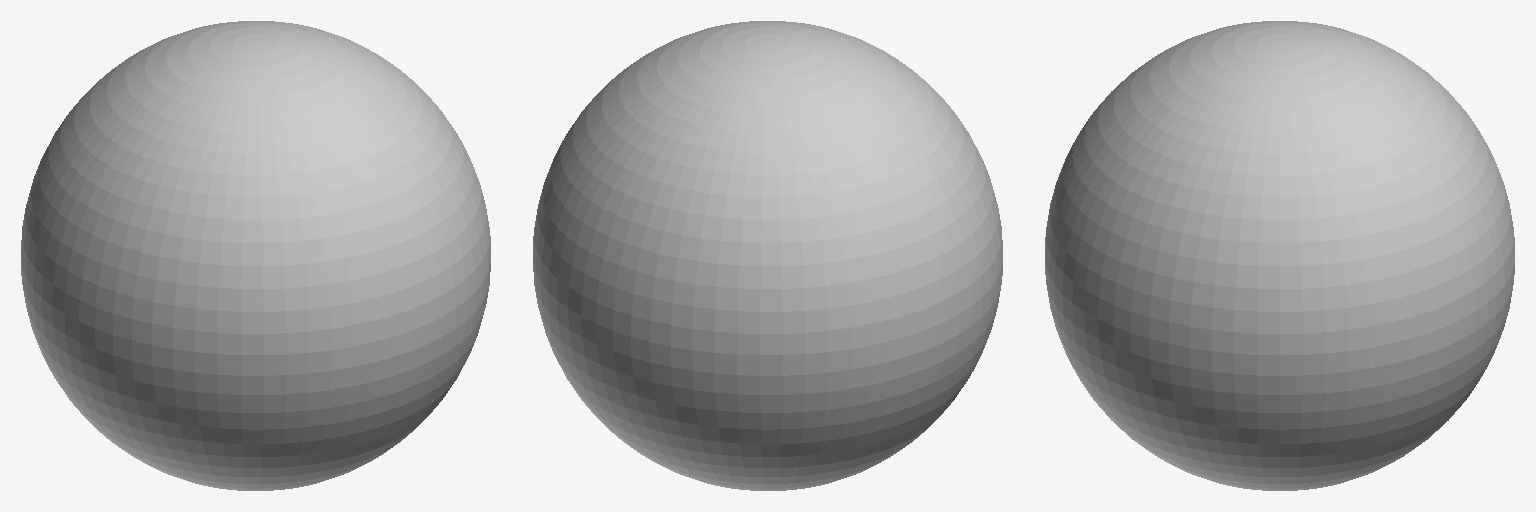
Rendered from moon.obj.
The picture shows the model from 3 angles: view 1: azimuth 30°, elevation 25°; view 2: azimuth 150°, elevation 25°; view 3: azimuth 270°, elevation 25°; orthographic projection.
Parts seen in each view (by area): view 1: Ganimede_Material_#25_0; view 2: Ganimede_Material_#25_0; view 3: Ganimede_Material_#25_0.
Part boxes in pixels (x1,y1,x2,y2): Ganimede_Material_#25_0: (21,21,490,490); Ganimede_Material_#25_0: (533,21,1002,490); Ganimede_Material_#25_0: (1045,21,1514,490).
Size of the model in its own units: 100 by 100 by 100.